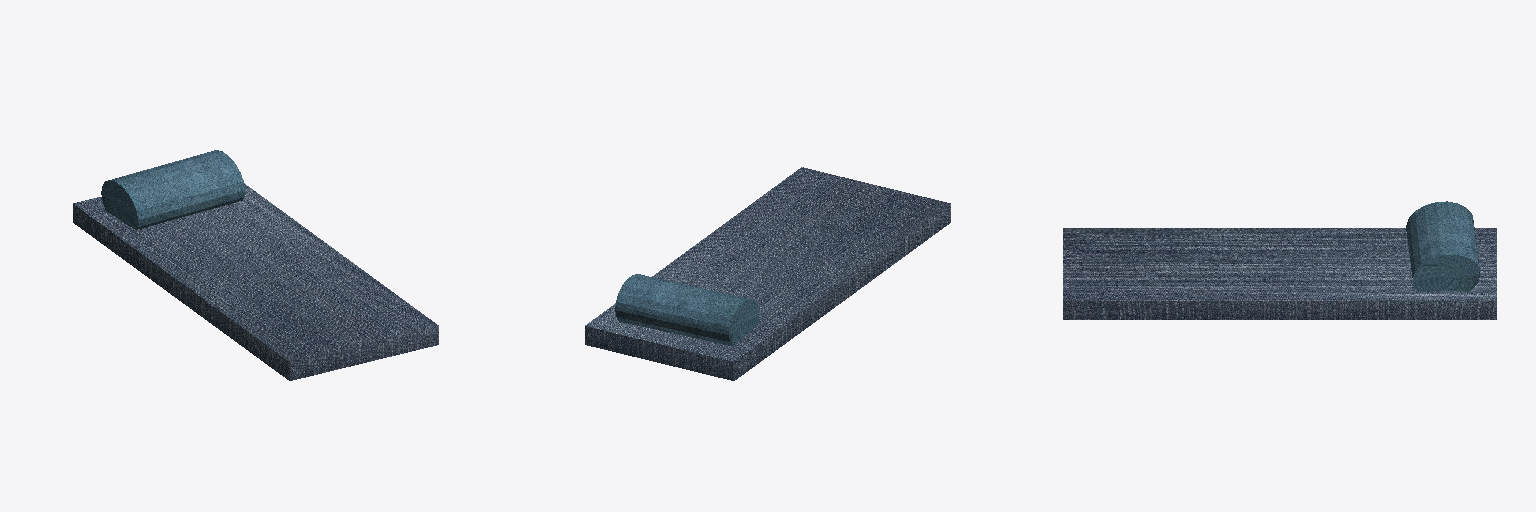
The picture shows the model from 3 angles: view 1: azimuth 30°, elevation 25°; view 2: azimuth 150°, elevation 25°; view 3: azimuth 270°, elevation 25°; orthographic projection.
Parts seen in each view (by area): view 1: Box001_Box001Mesh, Cylinder001_Cylinder001Mesh; view 2: Box001_Box001Mesh, Cylinder001_Cylinder001Mesh; view 3: Box001_Box001Mesh, Cylinder001_Cylinder001Mesh.
Part boxes in pixels (x1,y1,x2,y2): Box001_Box001Mesh: (73, 183, 438, 380); Cylinder001_Cylinder001Mesh: (101, 150, 244, 229); Box001_Box001Mesh: (585, 167, 950, 380); Cylinder001_Cylinder001Mesh: (615, 274, 759, 345); Box001_Box001Mesh: (1063, 228, 1496, 319); Cylinder001_Cylinder001Mesh: (1406, 201, 1479, 291).
Bounding box in the file's own units: 0.2377 × 0.0841 × 0.5976.
Materials: 2 (2 with a texture image).